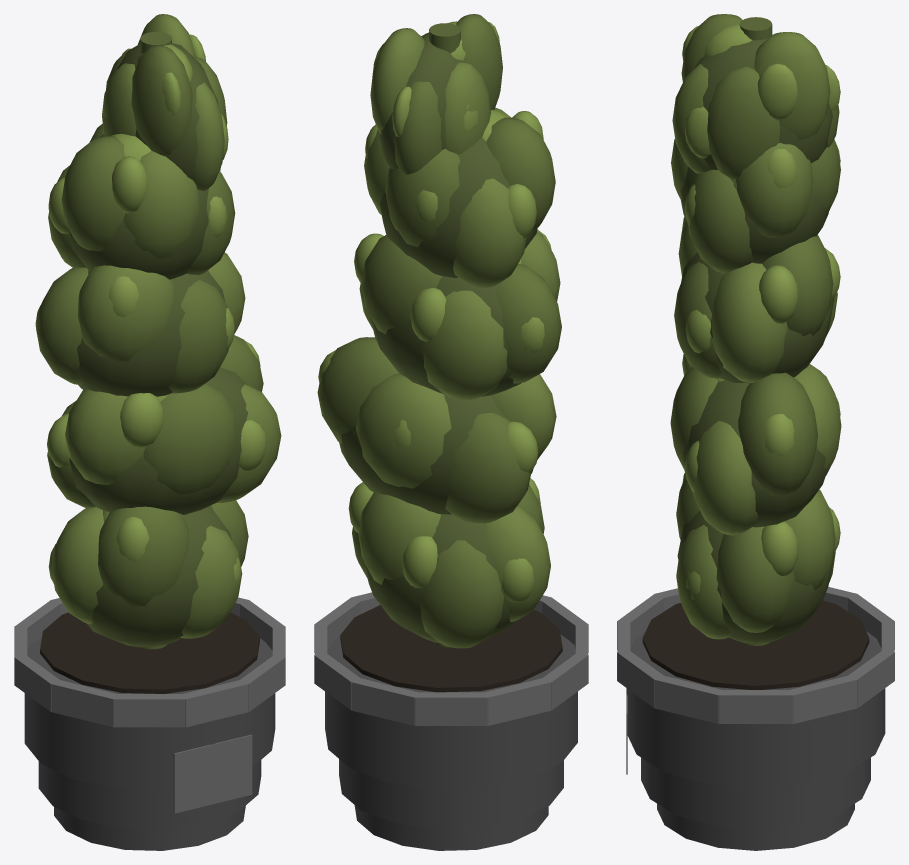
Rendered from CMU3DPottedPlant23.glb.
3 renders of one model, left to right at view 1: azimuth 30°, elevation 25°; view 2: azimuth 150°, elevation 25°; view 3: azimuth 270°, elevation 25°, orthographic. The views are drawn at different scales.
Parts seen in each view (by area): view 1: rounded irregular leaf spray (×22), shadowed foliage core (×5), upper pot wall, recessed soil, fine leafy crown edge (×9), lower tapered pot wall, pot front highlight, narrow pot foot, hollow curved planter rim 09, hollow curved planter rim 10, hollow curved planter rim 08, hollow curved planter rim 07 (+4 smaller); view 2: rounded irregular leaf spray (×20), shadowed foliage core (×5), upper pot wall, recessed soil, fine leafy crown edge (×10), lower tapered pot wall, narrow pot foot, hollow curved planter rim 05, hollow curved planter rim 06, hollow curved planter rim 04, hollow curved planter rim 03, hollow curved planter rim 07 (+3 smaller); view 3: rounded irregular leaf spray (×19), upper pot wall, shadowed foliage core (×5), recessed soil, lower tapered pot wall, fine leafy crown edge (×7), narrow pot foot, hollow curved planter rim 01, hollow curved planter rim 02, hollow curved planter rim 12, hollow curved planter rim 03, hollow curved planter rim 11 (+4 smaller).
Boxes of the visible parts, box(x1,y1,x2,y2) form: rounded irregular leaf spray (×22): box(36, 14, 281, 638); shadowed foliage core (×5): box(69, 43, 248, 647); upper pot wall: box(24, 637, 275, 789); recessed soil: box(40, 612, 259, 693); fine leafy crown edge (×9): box(47, 72, 266, 561); lower tapered pot wall: box(38, 760, 261, 829); pot front highlight: box(173, 734, 252, 813); narrow pot foot: box(54, 805, 245, 850); hollow curved planter rim 09: box(113, 694, 186, 727); hollow curved planter rim 10: box(183, 679, 249, 727); hollow curved planter rim 08: box(50, 680, 116, 727); hollow curved planter rim 07: box(14, 654, 61, 711); rounded irregular leaf spray (×20): box(317, 14, 561, 648); shadowed foliage core (×5): box(339, 32, 537, 643); upper pot wall: box(325, 634, 577, 788); recessed soil: box(340, 605, 562, 692); fine leafy crown edge (×10): box(348, 86, 544, 602); lower tapered pot wall: box(339, 759, 563, 828); narrow pot foot: box(354, 805, 548, 850); hollow curved planter rim 05: box(414, 692, 488, 725); hollow curved planter rim 06: box(485, 677, 552, 725); hollow curved planter rim 04: box(350, 677, 417, 725); hollow curved planter rim 03: box(314, 652, 359, 710); hollow curved planter rim 07: box(543, 654, 588, 710); rounded irregular leaf spray (×19): box(670, 14, 841, 639); upper pot wall: box(626, 631, 885, 788); shadowed foliage core (×5): box(677, 38, 834, 644); recessed soil: box(642, 600, 869, 689); lower tapered pot wall: box(641, 757, 870, 828); fine leafy crown edge (×7): box(685, 63, 798, 575); narrow pot foot: box(657, 803, 854, 850); hollow curved planter rim 01: box(718, 690, 793, 723); hollow curved planter rim 02: box(790, 676, 857, 723); hollow curved planter rim 12: box(654, 676, 721, 723); hollow curved planter rim 03: box(846, 651, 894, 708); hollow curved planter rim 11: box(617, 651, 665, 708).
Bounding box in the file's own units: 0.2825 × 0.8839 × 0.2806.
